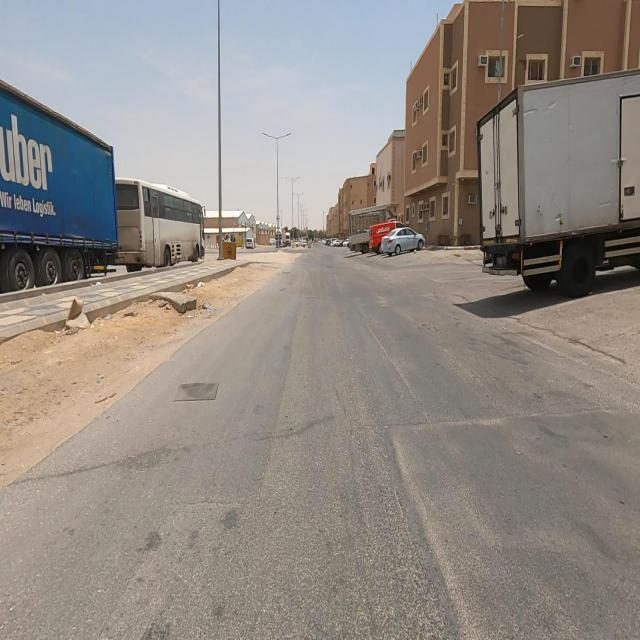debris: (163, 250, 223, 308), (82, 290, 138, 348), (186, 284, 223, 333)
